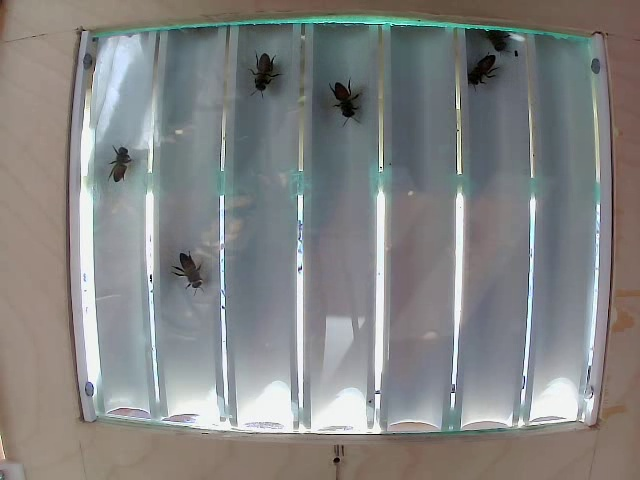bee: (250, 40, 289, 89), (320, 74, 365, 115), (106, 142, 154, 178), (164, 253, 210, 289), (464, 52, 502, 94)
